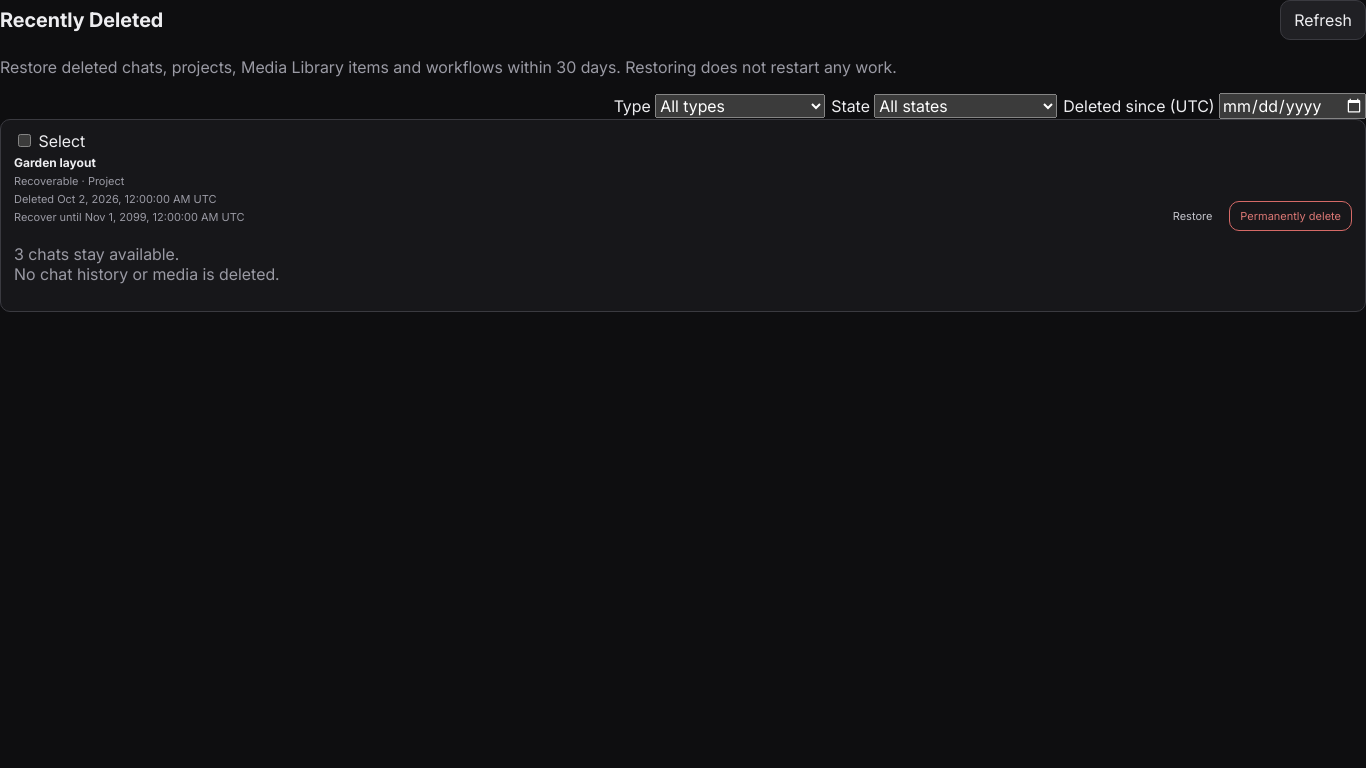
Test: restores project settings without promising to move chats back
The image size is (1366, 768).
Click the button with aria-label "Restore Garden layout" at coordinates (1193, 216), box [1162,200,1223,230]
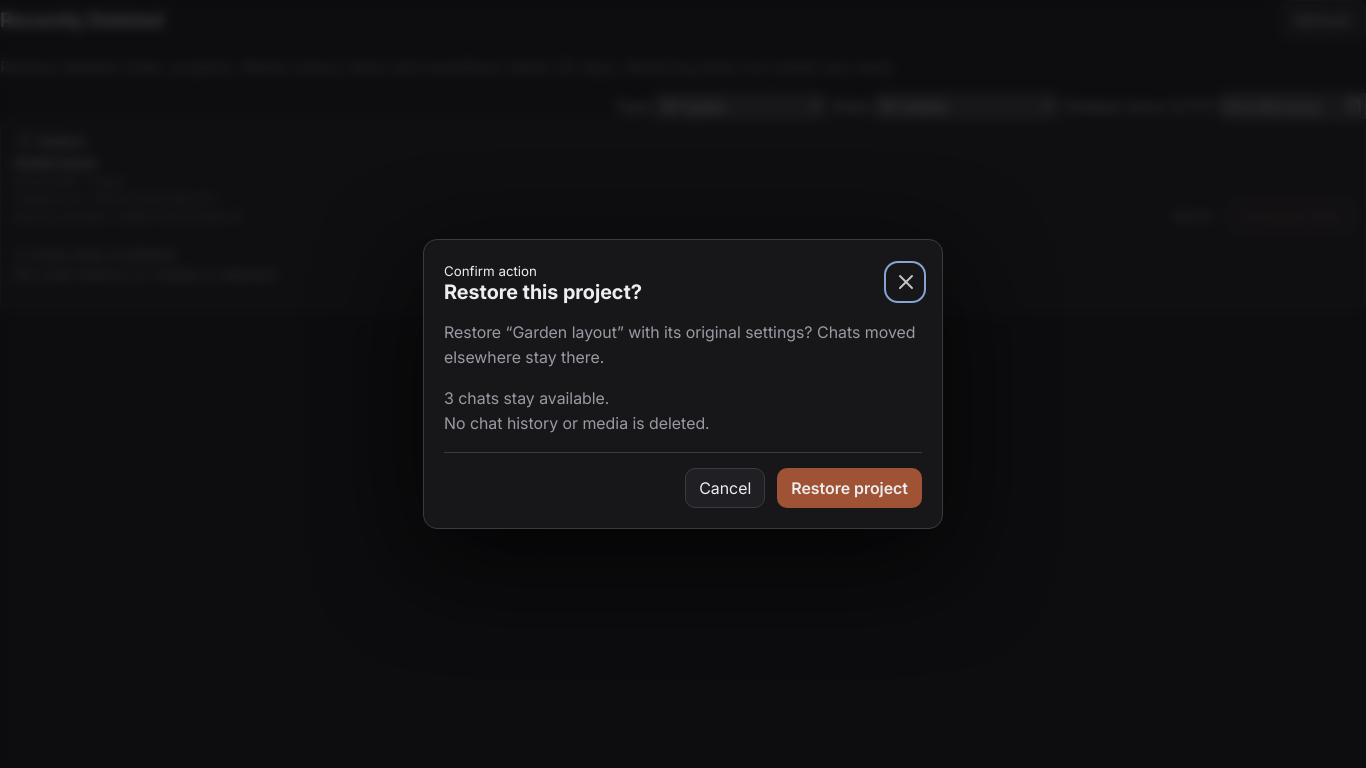
Expected: the text "Chats moved elsewhere stay there" is shown, [444,322,916,367]
Click the button "Restore project" at coordinates (850, 488), box [777,468,922,508]
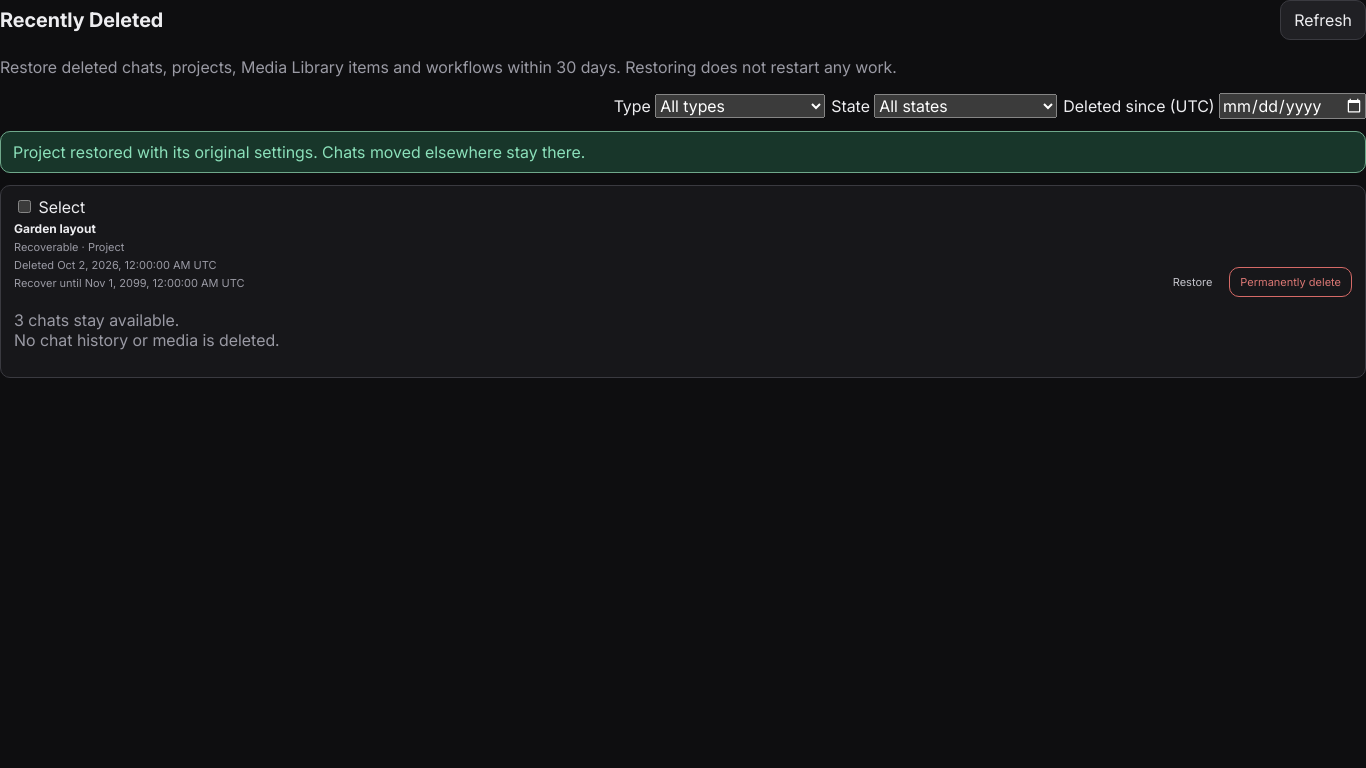
Expected: the text "Project restored with its original settings. Chats moved elsewhere stay there." is shown, [0,131,1365,173]
